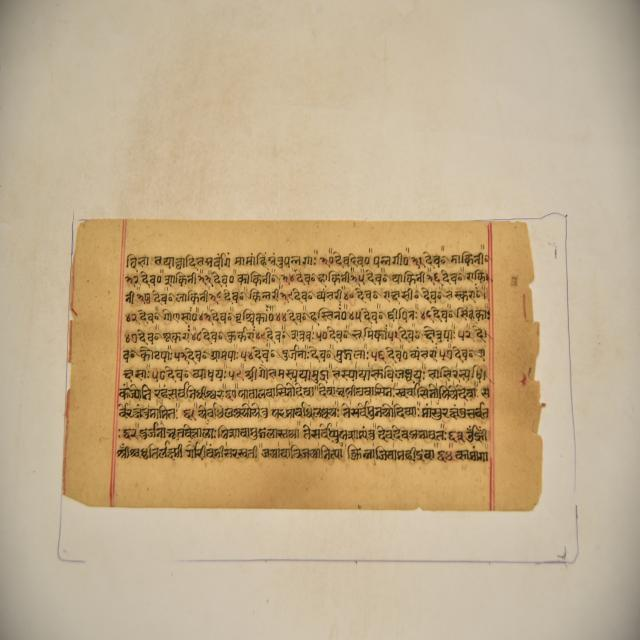text_paragraph: (62, 219, 538, 511)
